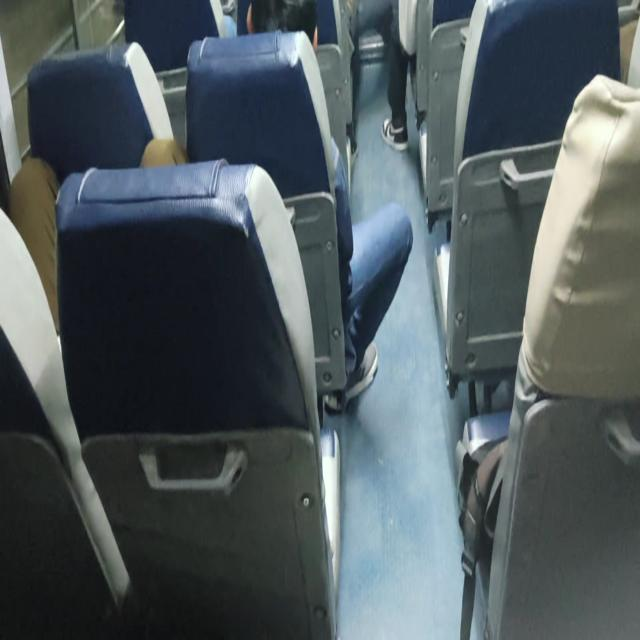person: (240, 0, 331, 78)
